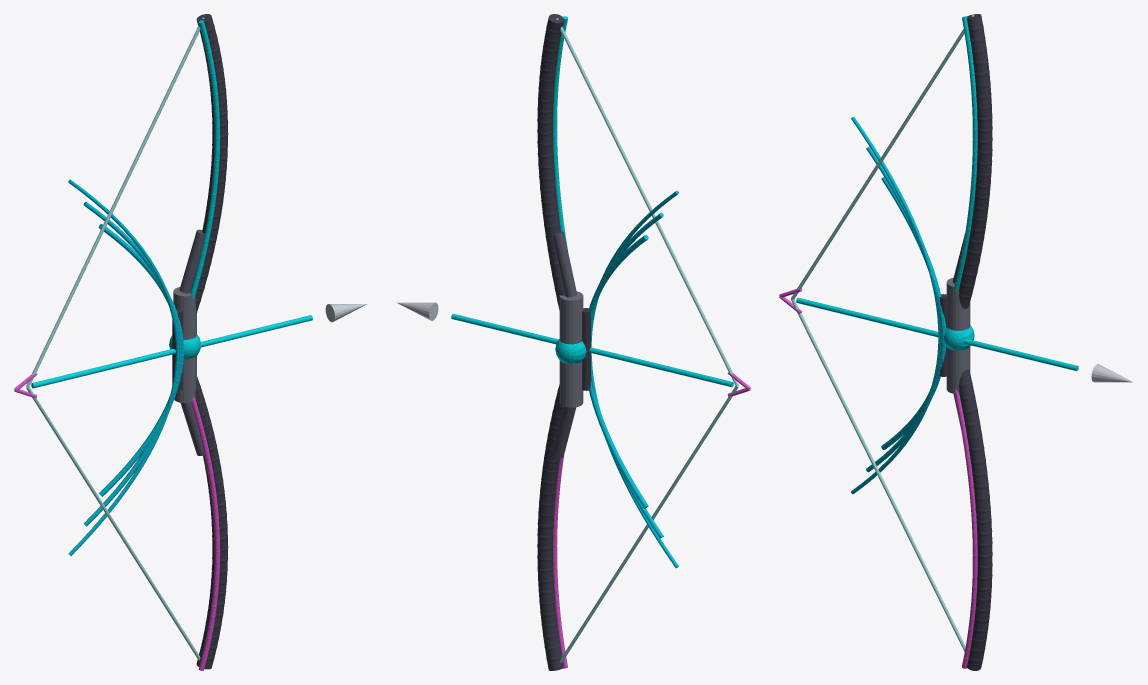
File: smooth_neon_bow.glb
The picture shows the model from 3 angles, left to right: view 1: azimuth 30°, elevation 25°; view 2: azimuth 150°, elevation 25°; view 3: azimuth 330°, elevation 25°; orthographic projection.
Parts seen in each view (by area): view 1: part_217, part_219, part_212, part_218, part_215, part_216; view 2: part_212, part_217, part_219, part_218, part_215, part_213, part_216, part_214; view 3: part_212, part_219, part_218, part_217, part_214.
Part boxes in pixels (<box>): part_217: <box>26,17,204,387</box>; part_219: <box>31,315,312,388</box>; part_212: <box>173,287,196,402</box>; part_218: <box>26,387,200,660</box>; part_215: <box>179,229,204,293</box>; part_216: <box>180,402,204,455</box>; part_212: <box>559,291,583,407</box>; part_217: <box>555,18,738,386</box>; part_219: <box>451,313,733,387</box>; part_218: <box>560,385,738,663</box>; part_215: <box>552,231,577,297</box>; part_213: <box>582,308,590,390</box>; part_216: <box>552,407,576,458</box>; part_214: <box>555,339,586,364</box>; part_212: <box>946,277,970,393</box>; part_219: <box>796,297,1078,371</box>; part_218: <box>791,299,965,651</box>; part_217: <box>791,15,974,299</box>; part_214: <box>943,325,974,350</box>.
Bounding box in the file's own units: 2.07 × 3.66 × 0.1741.
